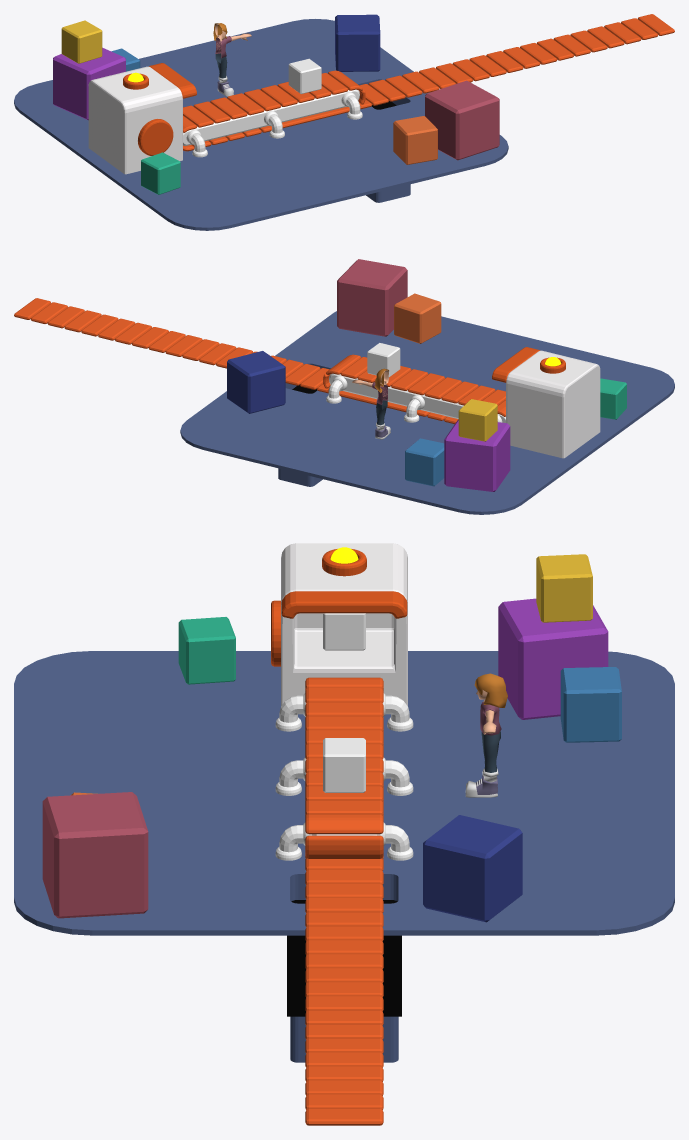
File: Conveyor_Belt_AR_Under25MB.glb
3 renders of one model, top to bottom at view 1: azimuth 30°, elevation 25°; view 2: azimuth 150°, elevation 25°; view 3: azimuth 270°, elevation 25°, orthographic. The views are drawn at different scales.
Visible parts, largest first — view 1: Floor, Conveyor Belt, Printer, Cube 5, Conveyor Belt - Baked GLB, Cube 1, Cube 3, Conveyor Box, Printer.001, Cube 4, Cube 6, Cube 7 (+3 smaller); view 2: Floor, Printer, Conveyor Belt, Cube 5, Conveyor Belt - Baked GLB, Cube 1, Cube 3, Cube 4, Cube 2, Conveyor Box, Cube 6, Cube 7 (+4 smaller); view 3: Floor, Conveyor Belt, Printer, Cube 5, Conveyor Belt - Baked GLB, Cube 3, Cube 1, Pipes, Cube 2, Printer.001, Cube 6, Cube 7 (+4 smaller).
Part boxes in pixels (<box>): Floor: <box>14,19,508,230</box>; Conveyor Belt: <box>282,14,674,127</box>; Printer: <box>88,66,182,174</box>; Cube 5: <box>425,80,499,160</box>; Conveyor Belt - Baked GLB: <box>183,70,365,151</box>; Cube 1: <box>53,47,125,120</box>; Cube 3: <box>335,14,380,71</box>; Conveyor Box: <box>183,89,359,145</box>; Printer.001: <box>123,63,196,155</box>; Cube 4: <box>393,116,437,164</box>; Cube 6: <box>61,20,102,63</box>; Cube 7: <box>141,152,180,194</box>; Floor: <box>180,311,674,514</box>; Printer: <box>506,350,600,458</box>; Conveyor Belt: <box>14,298,406,411</box>; Cube 5: <box>337,259,407,336</box>; Conveyor Belt - Baked GLB: <box>323,354,505,424</box>; Cube 1: <box>444,419,510,491</box>; Cube 3: <box>227,351,285,413</box>; Cube 4: <box>394,293,441,343</box>; Cube 2: <box>405,438,444,486</box>; Conveyor Box: <box>329,373,505,422</box>; Cube 6: <box>458,399,497,441</box>; Cube 7: <box>600,378,626,419</box>; Floor: <box>14,651,674,1062</box>; Conveyor Belt: <box>305,788,383,1125</box>; Printer: <box>281,543,407,706</box>; Cube 5: <box>42,792,148,918</box>; Conveyor Belt - Baked GLB: <box>305,677,383,859</box>; Cube 3: <box>423,815,522,922</box>; Cube 1: <box>498,598,608,719</box>; Pipes: <box>275,693,413,860</box>; Cube 2: <box>560,667,621,742</box>; Printer.001: <box>271,549,407,666</box>; Cube 6: <box>536,554,592,622</box>; Cube 7: <box>178,617,235,684</box>.
Size of the model in its own units: 24.24 by 7.04 by 14.22.
